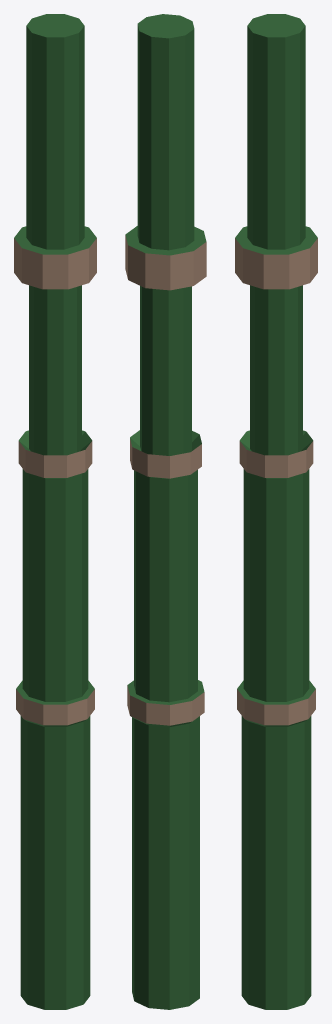
File: bamboo.fbx
3 renders of one model, left to right at view 1: azimuth 90°, elevation 25°; view 2: azimuth 150°, elevation 25°; view 3: azimuth 270°, elevation 25°, orthographic.
Visible parts, largest first — view 1: Cylinder; view 2: Cylinder; view 3: Cylinder.
Boxes of the visible parts, <box> form: Cylinder: <box>14,14,96,1009</box>; Cylinder: <box>125,14,206,1009</box>; Cylinder: <box>235,14,317,1009</box>.
Size of the model in its own units: 227 by 3081 by 239.
